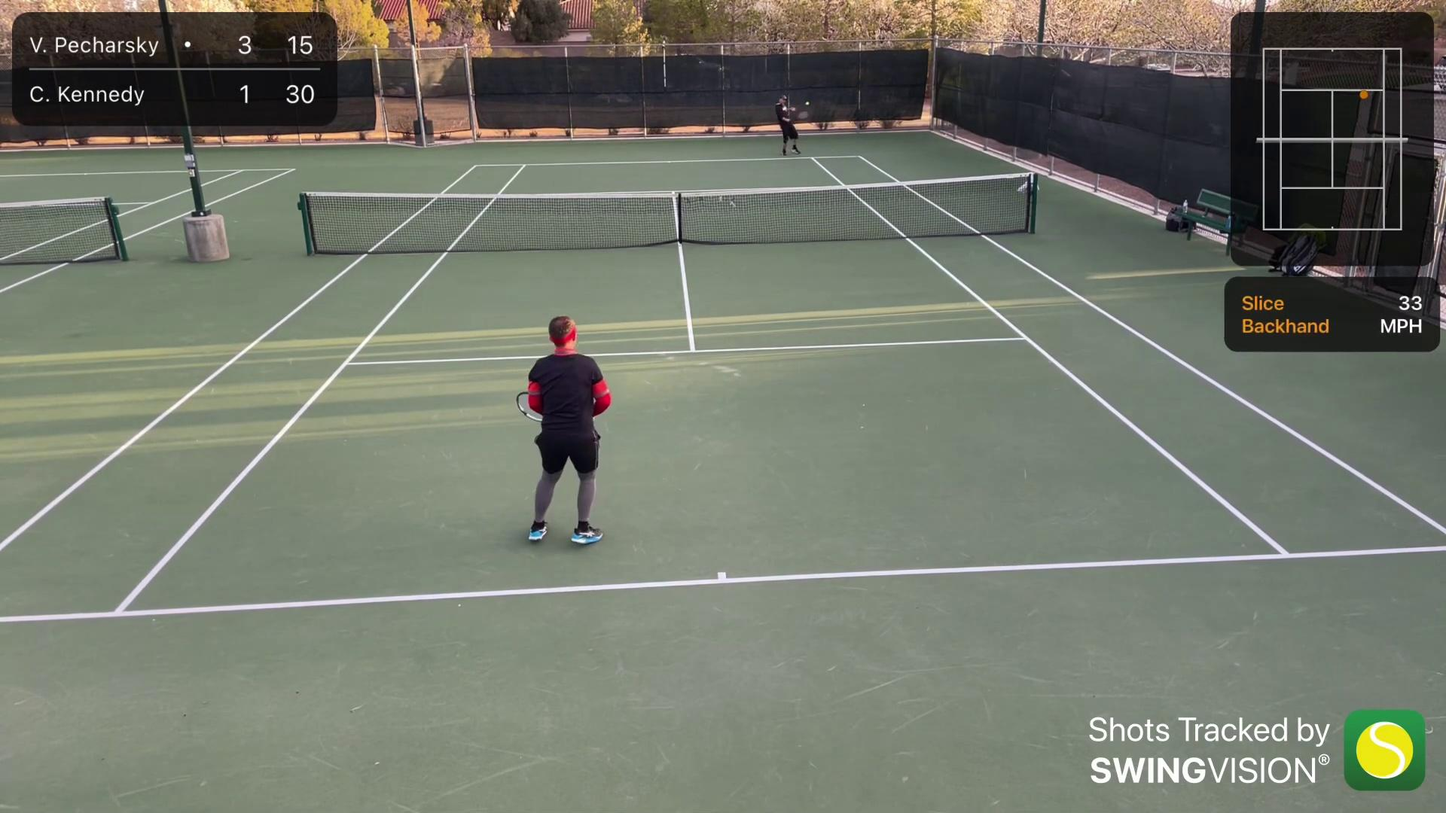ball: (804, 99, 810, 106)
